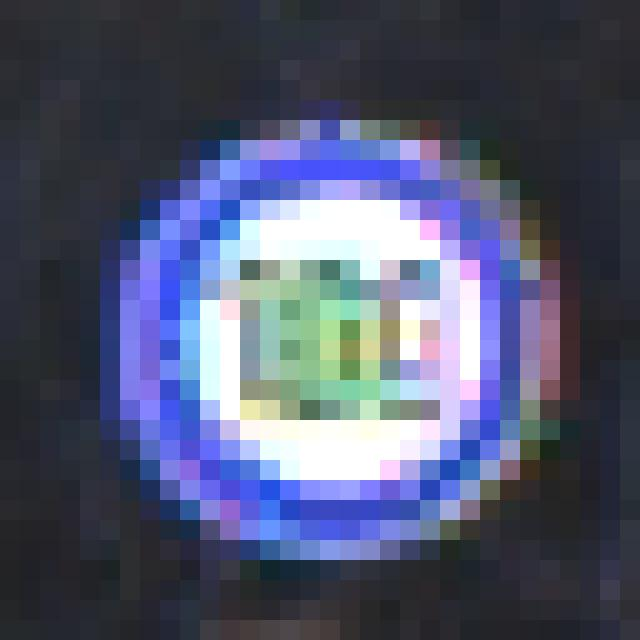SPEED LIMIT 100: (116, 117, 532, 559)
